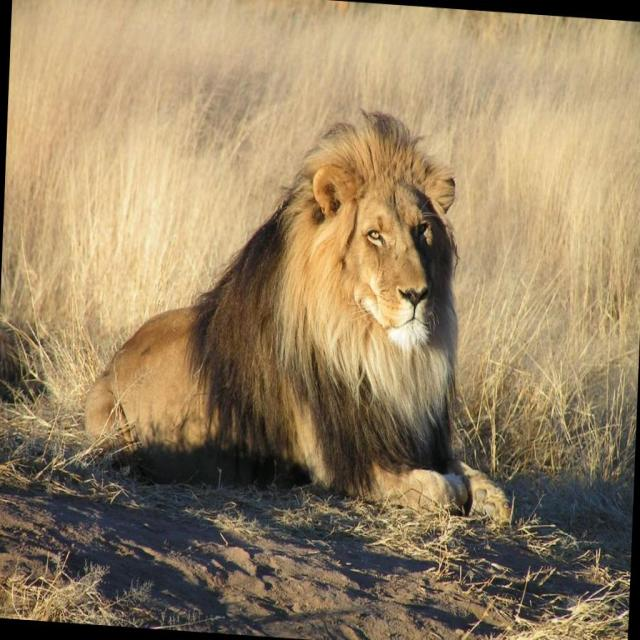Lion: (80, 88, 532, 526)
